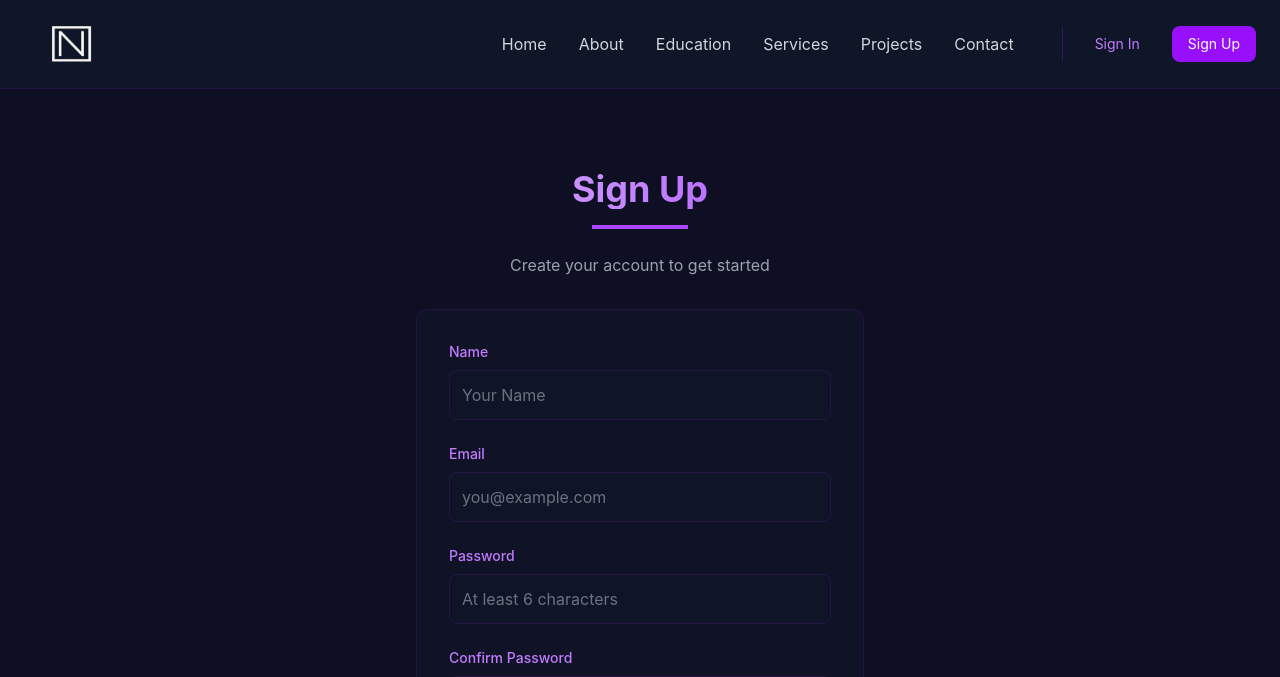
Authentication Tests › Sign Up Page › should show error for mismatched passwords
The width and height of the screenshot is (1280, 677).
Step 1. Type "Test User" into the field with placeholder "Your Name" → [640, 395], box [449,370,831,420]
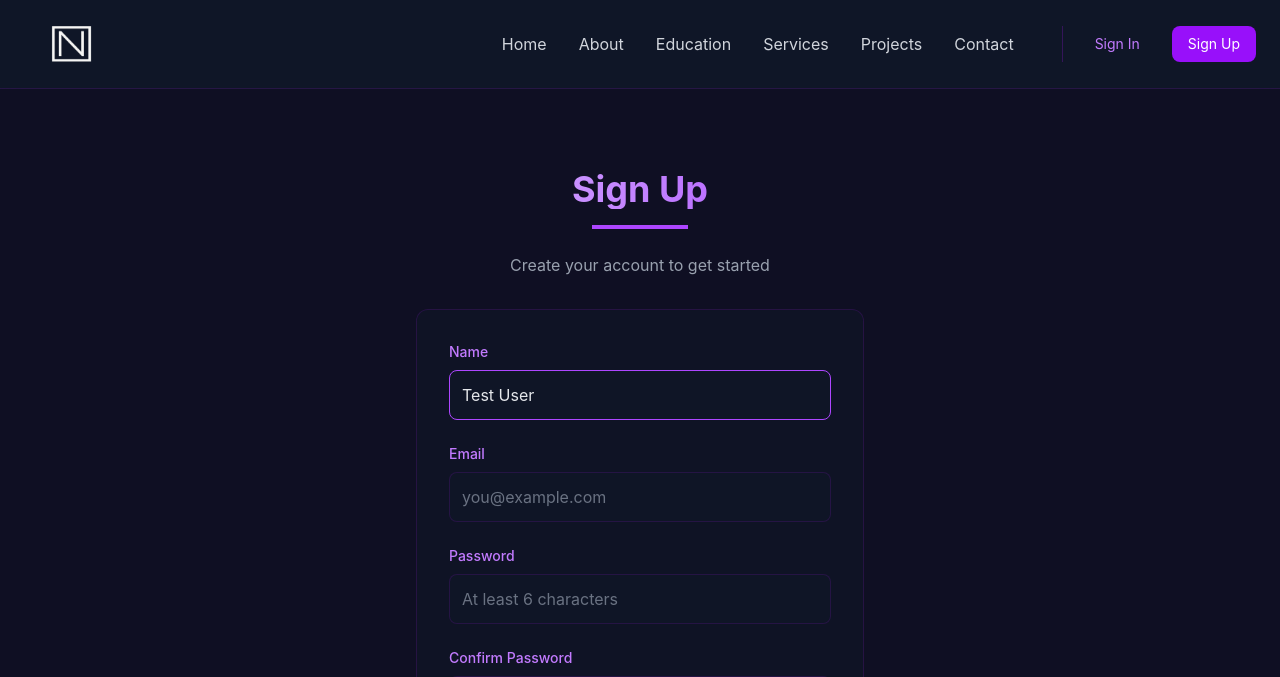
Step 2. Type "test@example.com" into the field with placeholder "you@example.com" → [640, 497], box [449,472,831,522]
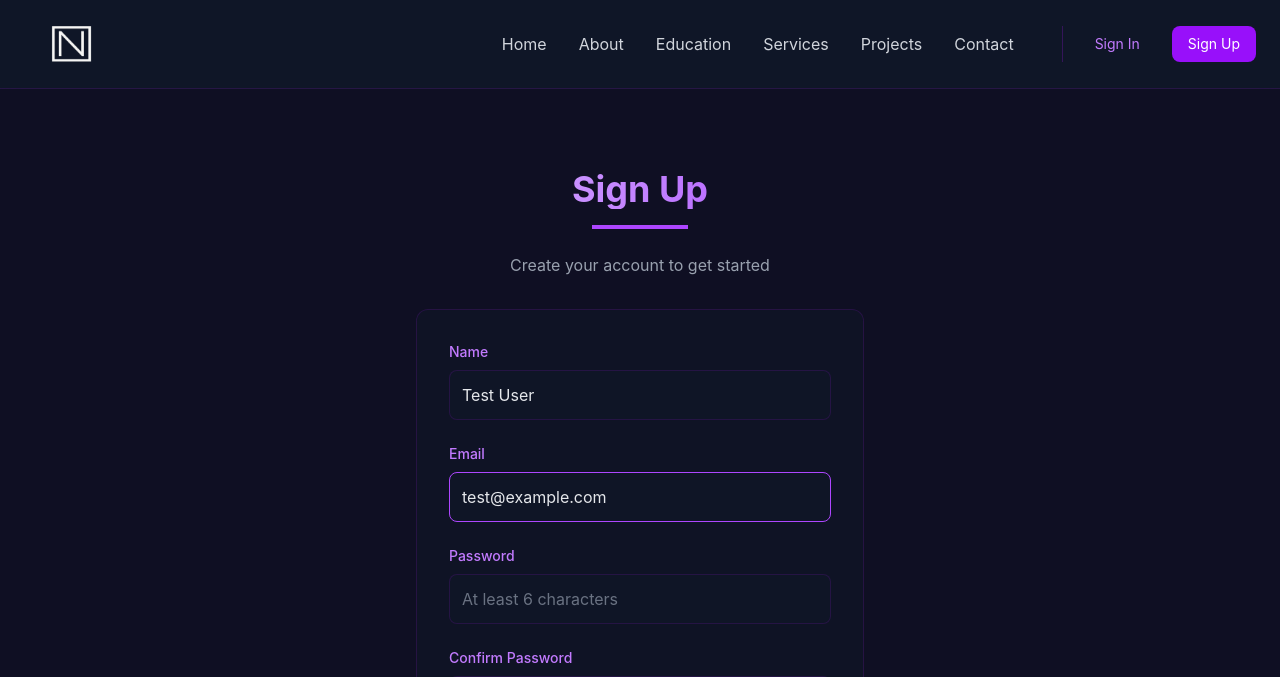
Step 3. Type "password123" into the password field with placeholder "At least 6 characters" → [640, 599], box [449,574,831,624]
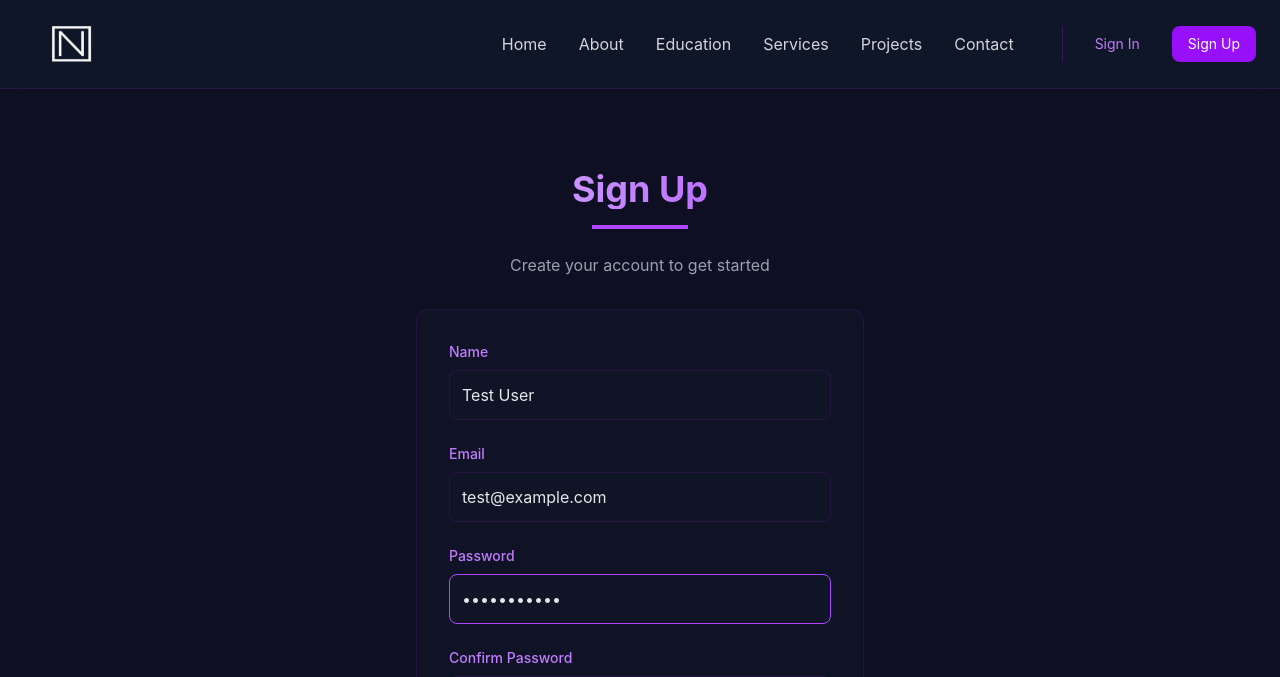
Step 4. Scroll
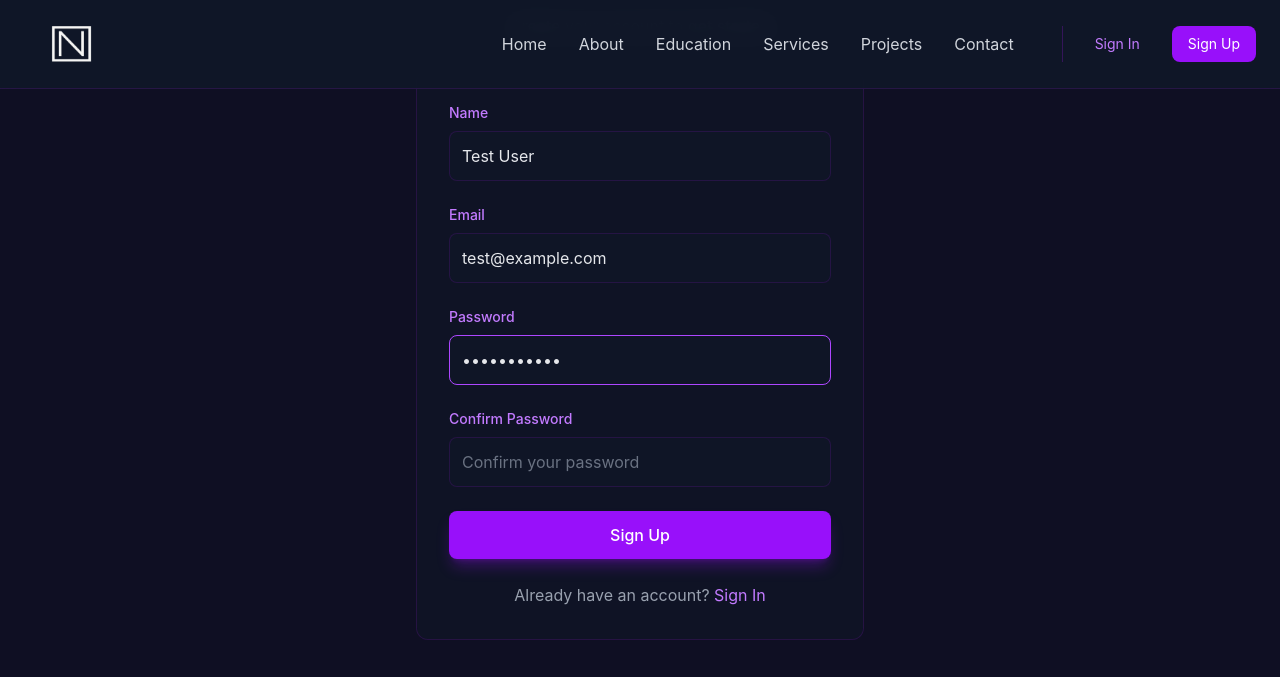
Step 5. Type "differentpassword" into the password field with placeholder "Confirm your password" → [640, 462], box [449,437,831,487]
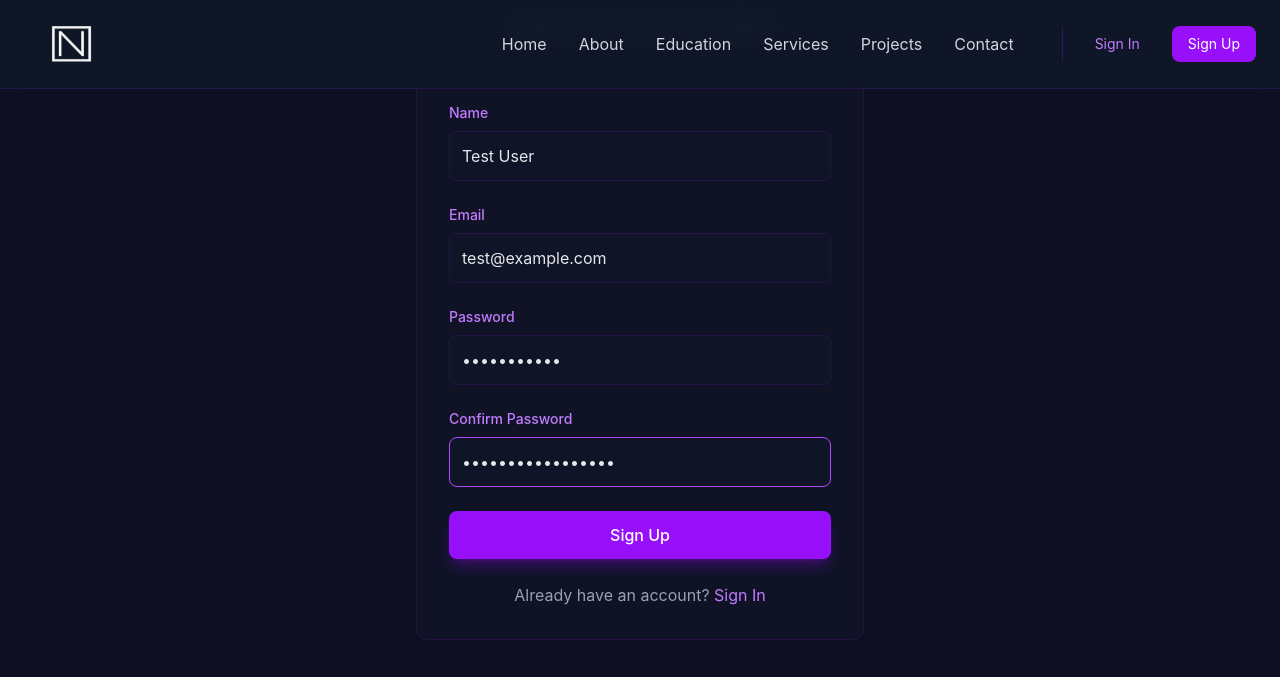
Step 6. Click the submit button → [640, 535], box [449,511,831,559]
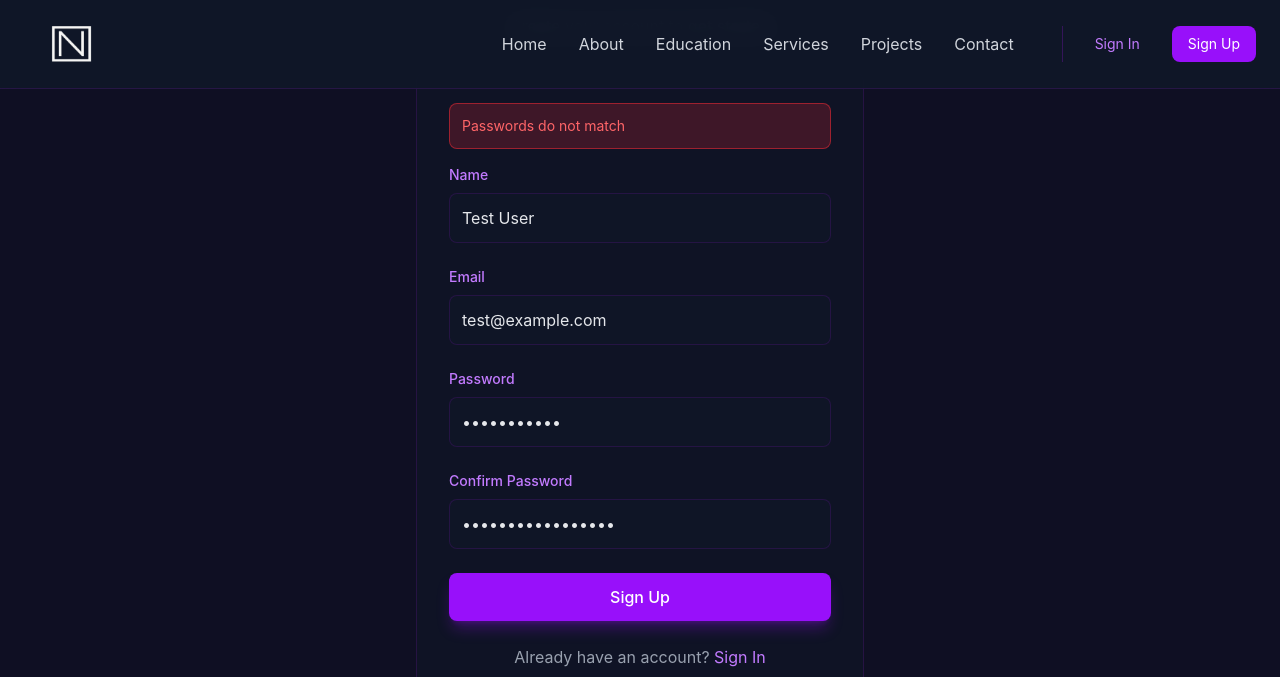
expect the text "Passwords do not match" is shown: met, box [449,103,831,149]
